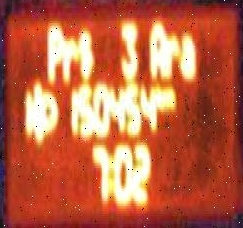0: (112, 140, 132, 206), (92, 79, 108, 137)
1: (22, 86, 32, 135), (69, 84, 76, 132)
2: (131, 137, 151, 206)
3: (118, 15, 138, 79)
4: (108, 79, 124, 135), (139, 79, 155, 132)
5: (77, 79, 92, 135), (124, 81, 139, 135)
7: (89, 140, 106, 201)
X: (147, 15, 166, 79), (44, 18, 61, 84), (77, 25, 94, 79), (179, 28, 195, 79), (164, 28, 179, 79), (62, 33, 77, 81), (164, 81, 175, 109), (106, 150, 112, 195), (155, 84, 164, 109)
